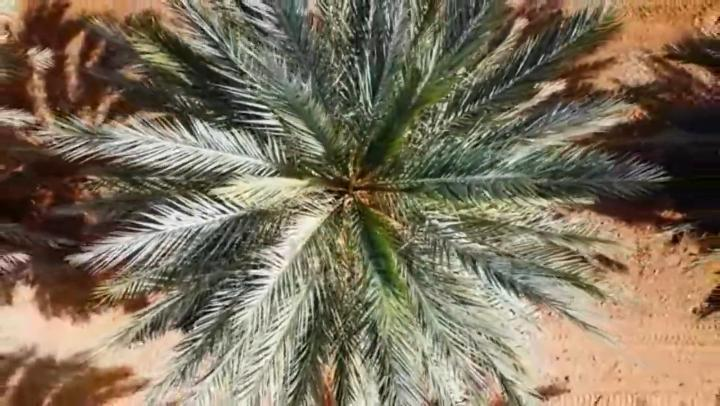Date-Palm-Crown: (244, 63, 458, 307)
